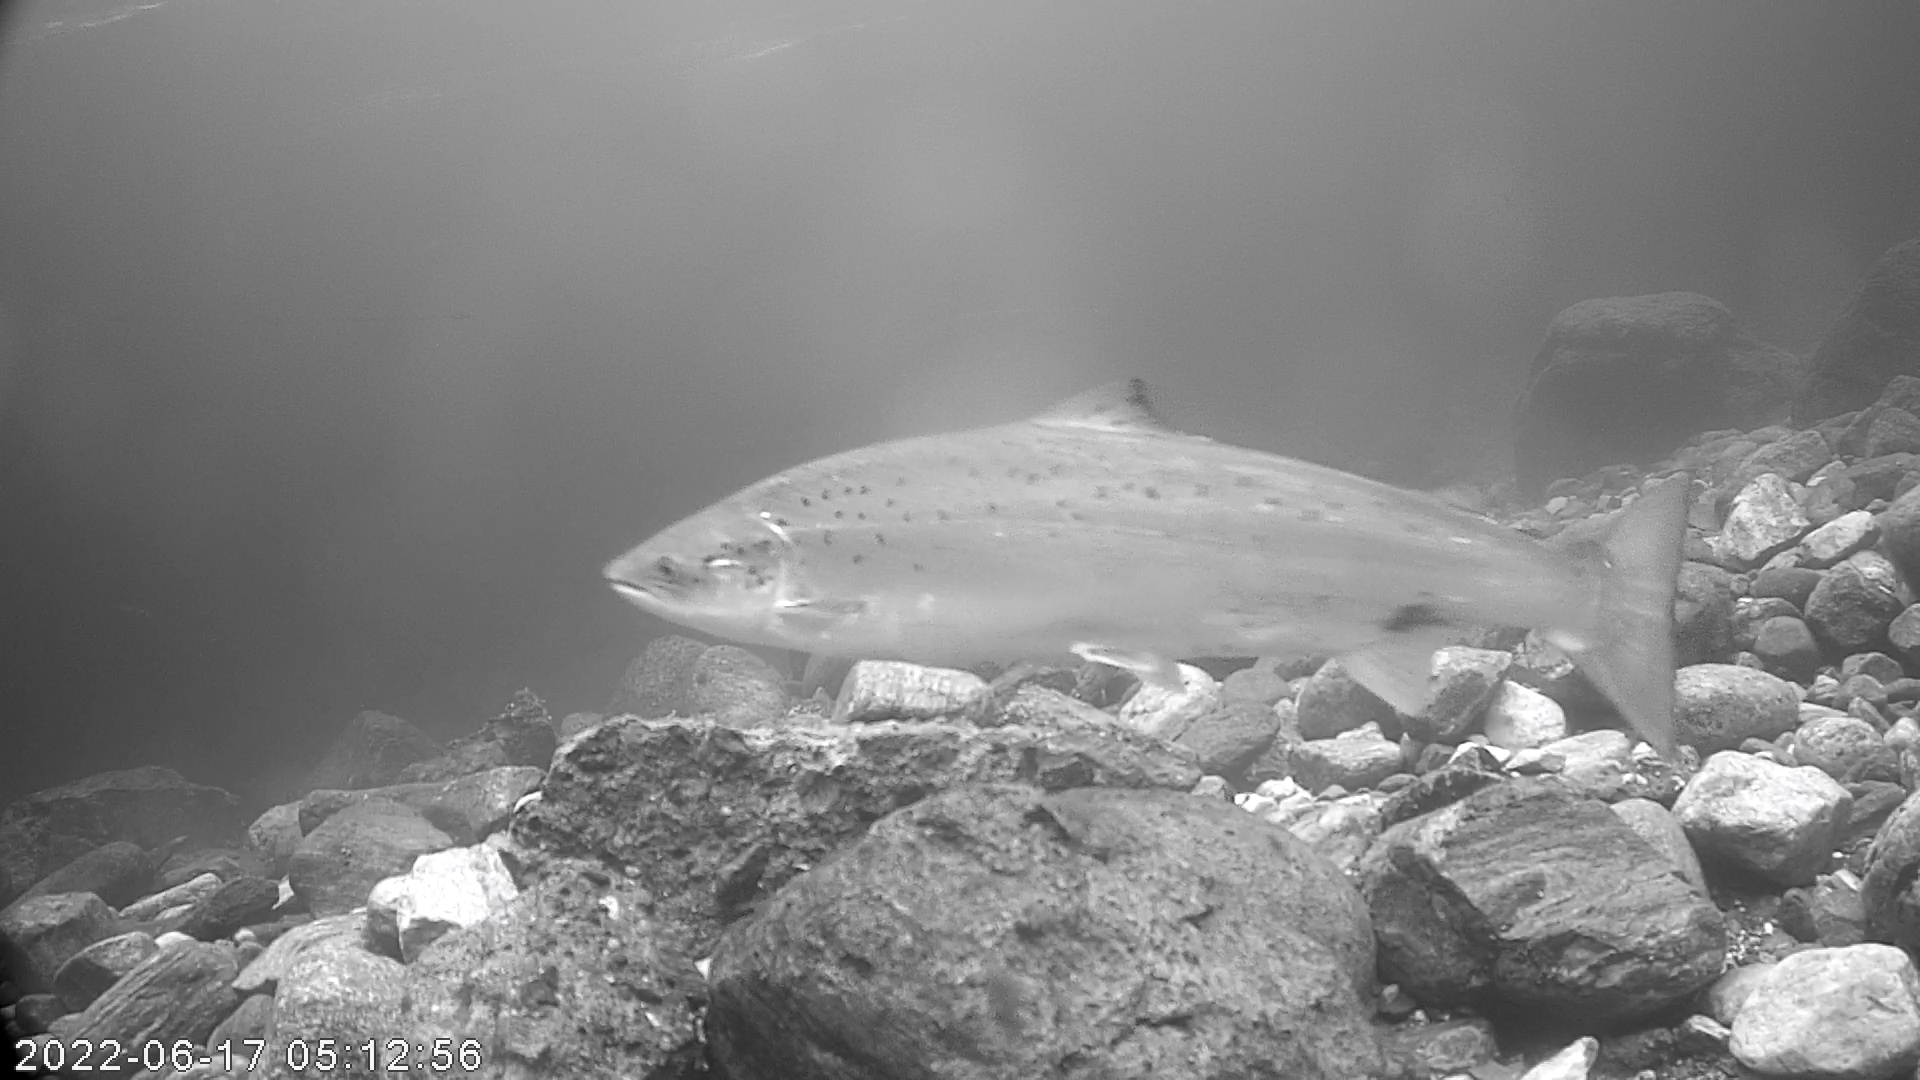salmon: (597, 367, 1695, 766)
